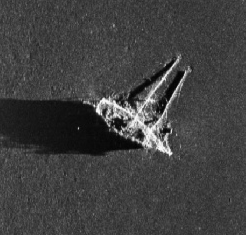ship: (92, 56, 189, 156)
